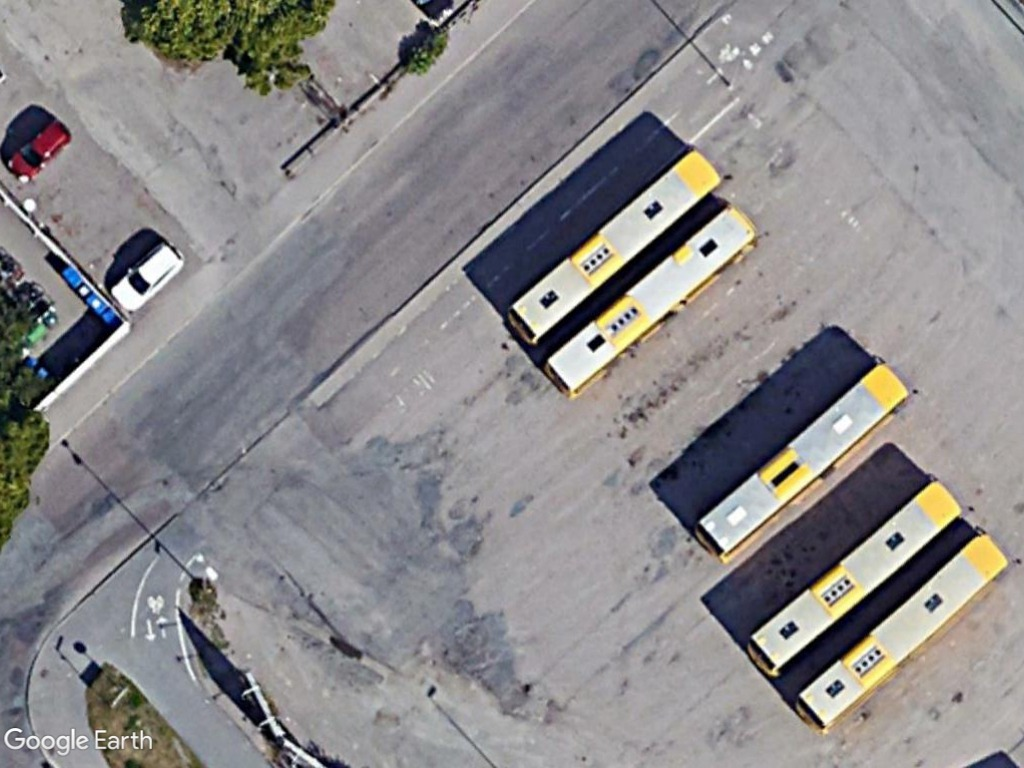bus: (788, 531, 1013, 740), (687, 359, 911, 567), (500, 147, 724, 351), (538, 204, 759, 404), (744, 478, 963, 679)
car: (105, 236, 188, 313), (4, 116, 74, 187)
